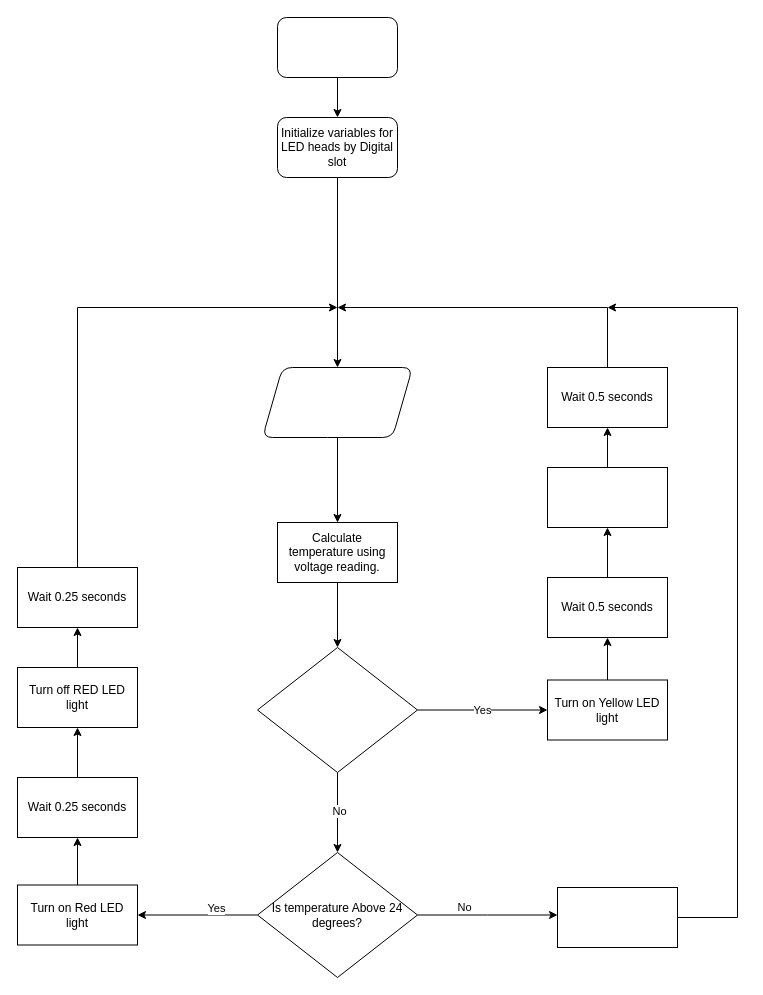
Some shapes in this 763 by 995 pixel diagram are drawn without their labels. The centre of each missing label's shape, as x and y in pixels:
"Input analog voltage reading" belongs at (337,402).
"Is temperature below 18 degrees?" belongs at (337,709).
"Start" belongs at (337,47).
"Turn off Yellow Led light" belongs at (607,497).
"Turn on Green LED light" belongs at (617,917).
